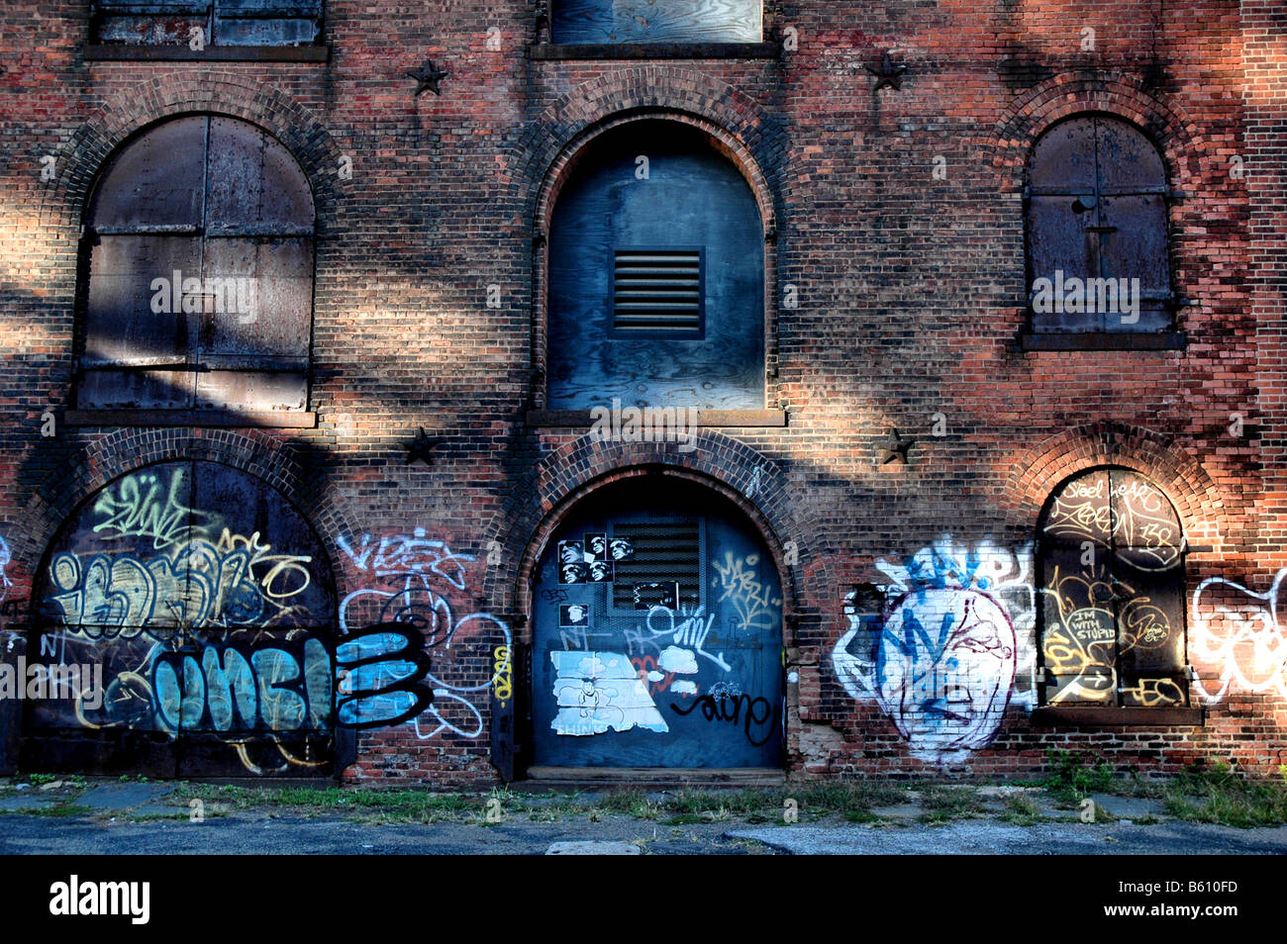Wall: (798, 144, 1008, 519), (347, 148, 522, 448)
